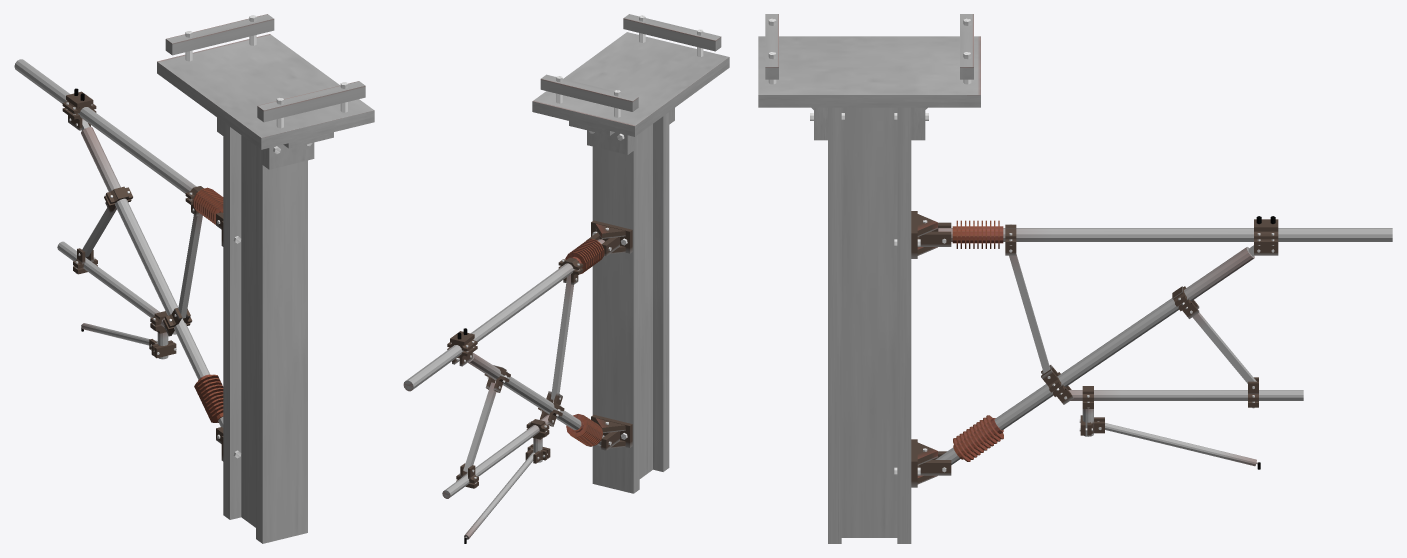
Rendered from catenary_short_top.obj.
The picture shows the model from 3 angles, left to right: view 1: azimuth 30°, elevation 25°; view 2: azimuth 150°, elevation 25°; view 3: azimuth 270°, elevation 25°; orthographic projection. The views are drawn at different scales.
Parts seen in each view (by area): view 1: cuboid, cylinder; view 2: cuboid, cylinder; view 3: cuboid, cylinder.
Boxes of the visible parts, left/top/right/bottom form: cuboid: left=62, top=14, right=374, bottom=543; cylinder: left=14, top=15, right=347, bottom=458; cuboid: left=447, top=14, right=729, bottom=537; cylinder: left=403, top=15, right=703, bottom=543; cuboid: left=758, top=14, right=1278, bottom=543; cylinder: left=768, top=18, right=1392, bottom=475.
Bounding box in the file's own units: 0.625 × 2.46 × 2.85.
Materials: 1 (1 with a texture image).
